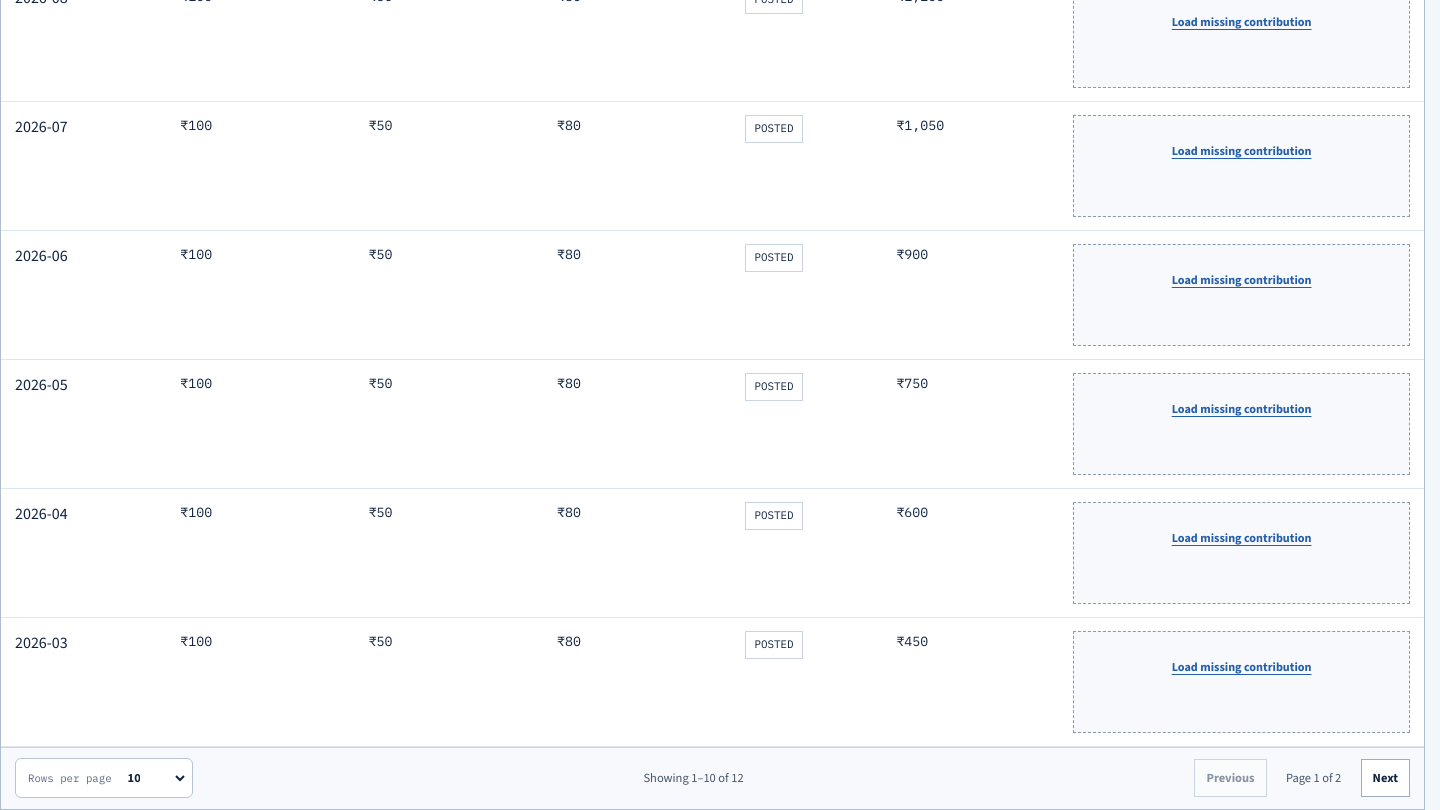
Test case: ContributionTable › shows ten rows by default and can expand the page size to fifty
The image size is (1440, 810).
(page scrolled)
Expected: the text "Showing 1–10 of 12" is shown, [643, 770, 744, 786]
Select "50" in the dropdown labelled "Rows per page": (150, 778) [112, 759, 188, 797]
(page scrolled)
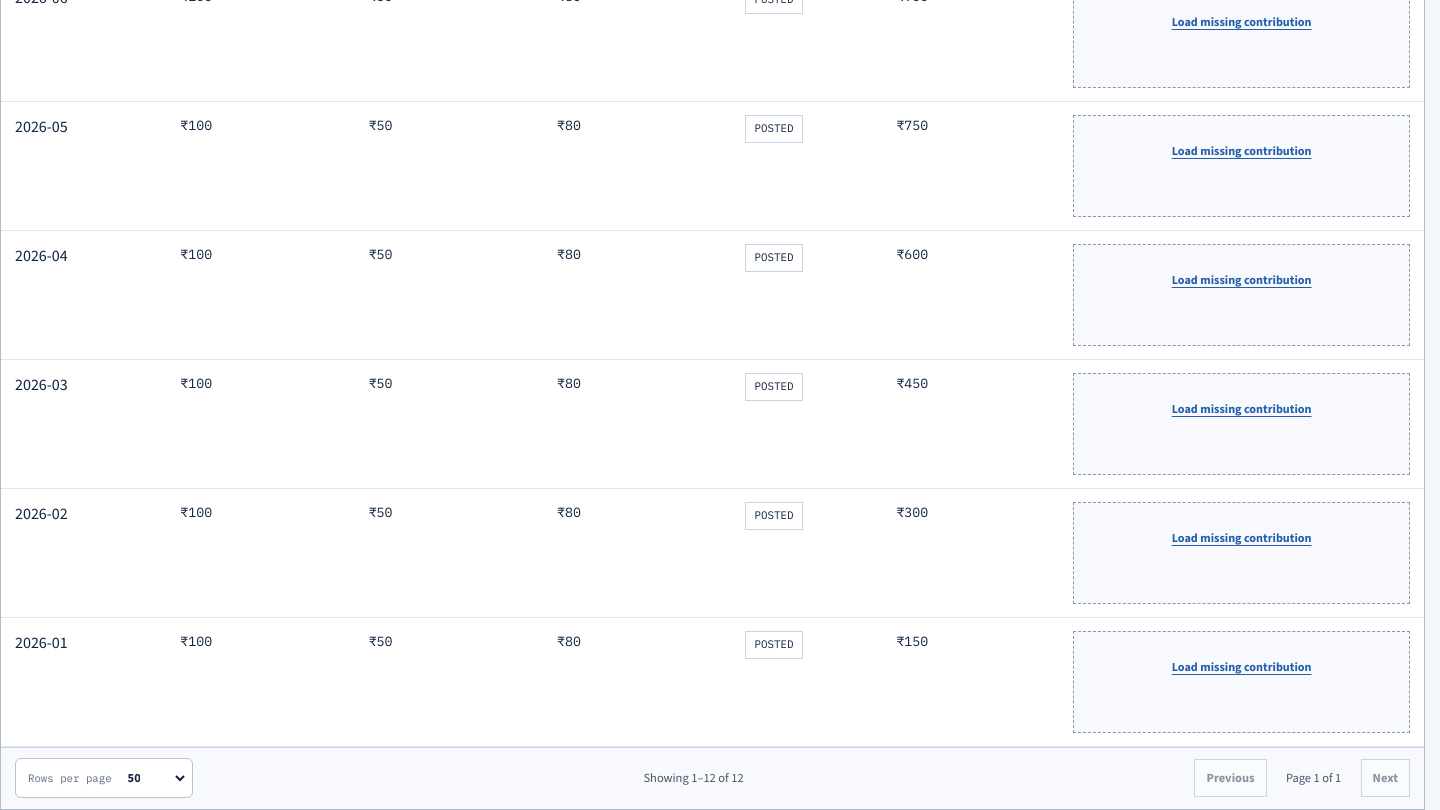
Expected: the text "Showing 1–12 of 12" is shown, [643, 770, 744, 786]
